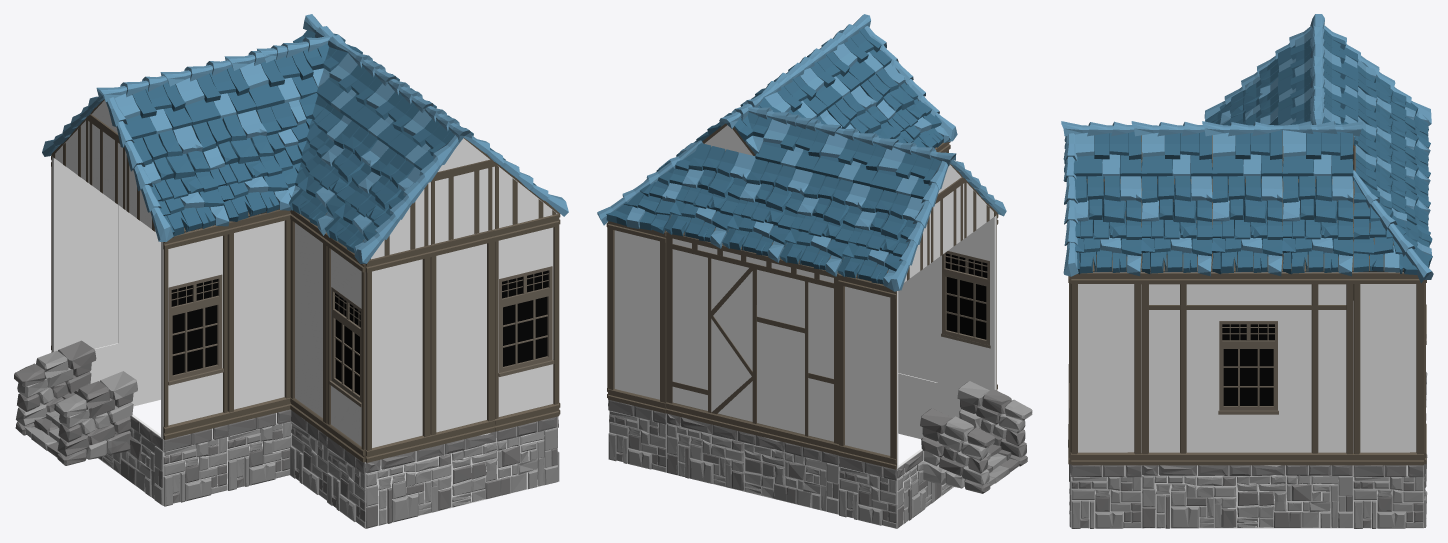
The model's file is House_11_parts.glb.
3 renders of one model, left to right at view 1: azimuth 30°, elevation 25°; view 2: azimuth 150°, elevation 25°; view 3: azimuth 270°, elevation 25°, orthographic. The views are drawn at different scales.
Visible parts, largest first — view 1: WINDOW_04_5, WALL_03_8, WALL_03_7, WALL_03_10, WINDOW_04_3, FOUNDATION_02_16, WALL_03_3, STSAIRS_07_2, WINDOW_04_4, WALL_03_9, ROOF_base_4, ROOF_base_3 (+33 smaller); view 2: WALL_05_2, WALL_03_3, WALL_03_4, FOUNDATION_02_18, WINDOW_04_5, STSAIRS_07_2, ROOF_base_14, ROOF_base_13, ROOF_base_12, ROOF_base_11, WALL_03_10, ROOF_corner_out_2 (+26 smaller); view 3: WINDOW_03_2, WALL_03_6, WALL_03_5, FOUNDATION_02_17, ROOF_base_8, ROOF_base_10, ROOF_base_9, ROOF_base_7, ROOF_corner_out_2, FOUNDATION_03_13, FOUNDATION_03_12, ROOF_base_small_13 (+23 smaller).
Part boxes in pixels (left/top/right/bottom): WINDOW_04_5: left=161, top=225, right=228, bottom=439; WALL_03_8: left=365, top=245, right=430, bottom=462; WALL_03_7: left=430, top=229, right=495, bottom=447; WALL_03_10: left=227, top=209, right=290, bottom=424; WINDOW_04_3: left=494, top=214, right=559, bottom=431; FOUNDATION_02_16: left=365, top=416, right=557, bottom=528; WALL_03_3: left=51, top=155, right=117, bottom=352; STSAIRS_07_2: left=14, top=340, right=137, bottom=465; WINDOW_04_4: left=325, top=234, right=365, bottom=462; WALL_03_9: left=290, top=210, right=327, bottom=434; ROOF_base_4: left=192, top=110, right=291, bottom=221; ROOF_base_3: left=132, top=125, right=229, bottom=237; WALL_05_2: left=665, top=232, right=838, bottom=455; WALL_03_3: left=838, top=274, right=898, bottom=469; WALL_03_4: left=607, top=221, right=666, bottom=413; FOUNDATION_02_18: left=666, top=413, right=839, bottom=514; WINDOW_04_5: left=937, top=214, right=998, bottom=390; STSAIRS_07_2: left=920, top=381, right=1032, bottom=493; ROOF_base_14: left=664, top=143, right=755, bottom=248; ROOF_base_13: left=722, top=159, right=812, bottom=262; ROOF_base_12: left=779, top=173, right=870, bottom=276; ROOF_base_11: left=837, top=187, right=925, bottom=289; WALL_03_10: left=898, top=259, right=937, bottom=382; ROOF_corner_out_2: left=597, top=140, right=703, bottom=233; WINDOW_03_2: left=1141, top=272, right=1353, bottom=465; WALL_03_6: left=1071, top=272, right=1141, bottom=465; WALL_03_5: left=1353, top=272, right=1423, bottom=465; FOUNDATION_02_17: left=1141, top=465, right=1353, bottom=528; ROOF_base_8: left=1141, top=175, right=1212, bottom=276; ROOF_base_10: left=1282, top=175, right=1353, bottom=276; ROOF_base_9: left=1211, top=176, right=1282, bottom=276; ROOF_base_7: left=1071, top=174, right=1141, bottom=276; ROOF_corner_out_2: left=1352, top=170, right=1433, bottom=283; FOUNDATION_03_13: left=1071, top=465, right=1141, bottom=528; FOUNDATION_03_12: left=1353, top=465, right=1423, bottom=528; ROOF_base_small_13: left=1282, top=130, right=1353, bottom=178.
Size of the model in its own units: 6.29 by 5.65 by 5.28.
1 material, 1 textured.
